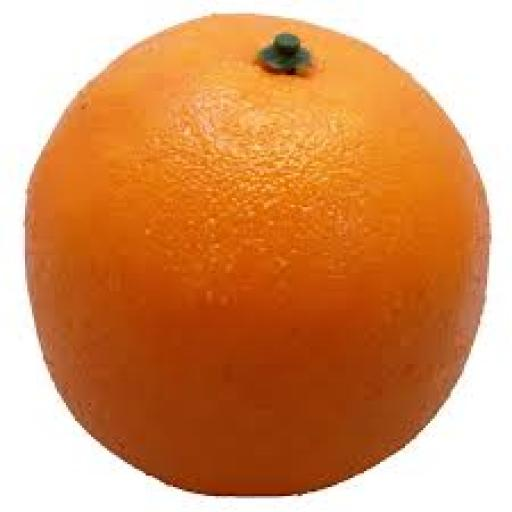orange: (28, 16, 489, 493)
